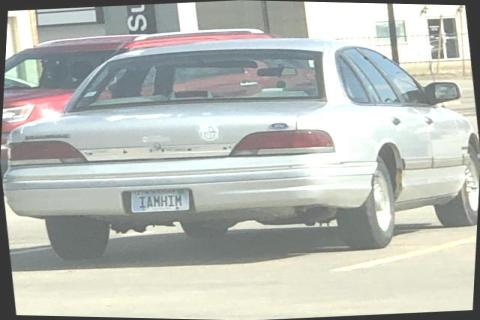LicensePlate: (128, 186, 188, 212)
